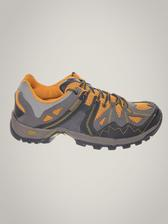shoes: (8, 70, 165, 151)
